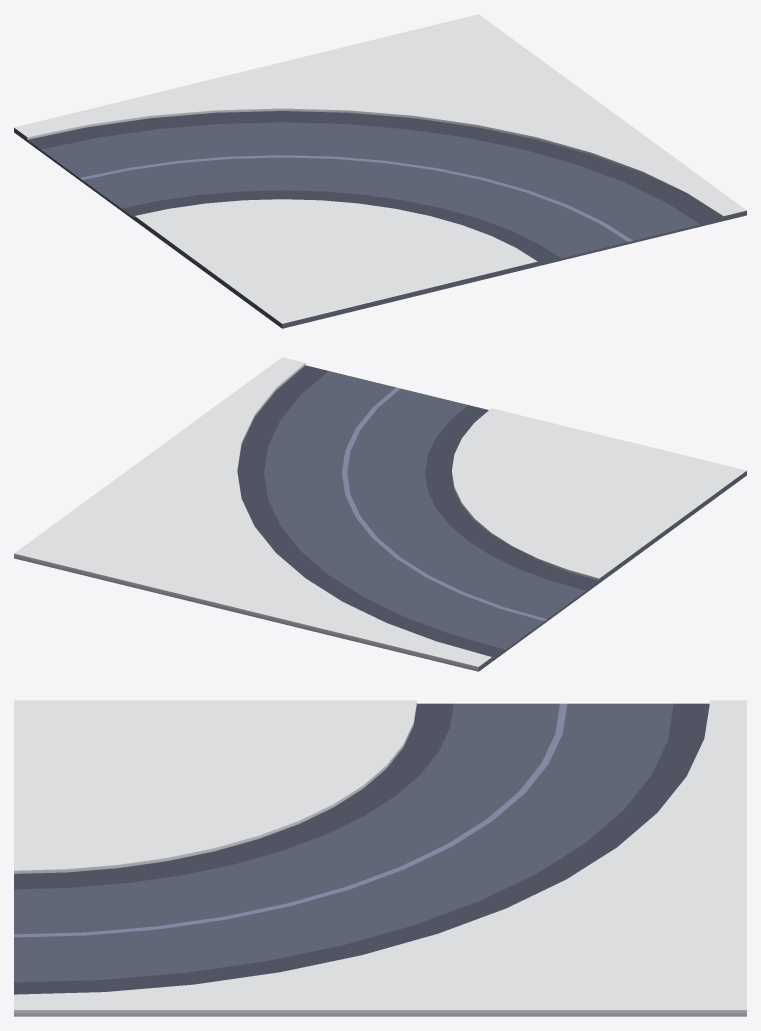
File: kenney-city-roads-road-curve-pavement.glb
3 renders of one model, top to bottom at view 1: azimuth 30°, elevation 25°; view 2: azimuth 150°, elevation 25°; view 3: azimuth 270°, elevation 25°, orthographic. The views are drawn at different scales.
Visible parts, largest first — view 1: road-curve-pavement; view 2: road-curve-pavement; view 3: road-curve-pavement.
Boxes of the visible parts, x1,y1,x2,y2 form: road-curve-pavement: [14, 14, 746, 328]; road-curve-pavement: [14, 357, 746, 671]; road-curve-pavement: [14, 700, 746, 1016].
Bounding box in the file's own units: 2 × 0.02 × 2.
1 material, 1 textured.
